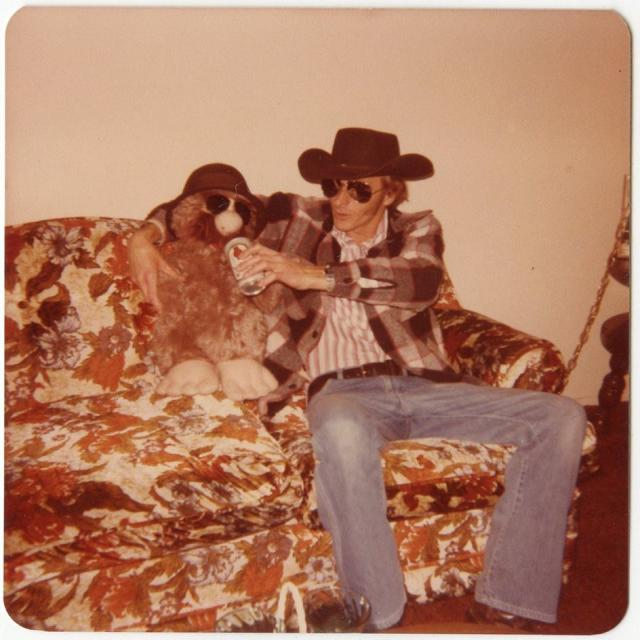hat: (300, 123, 438, 234)
